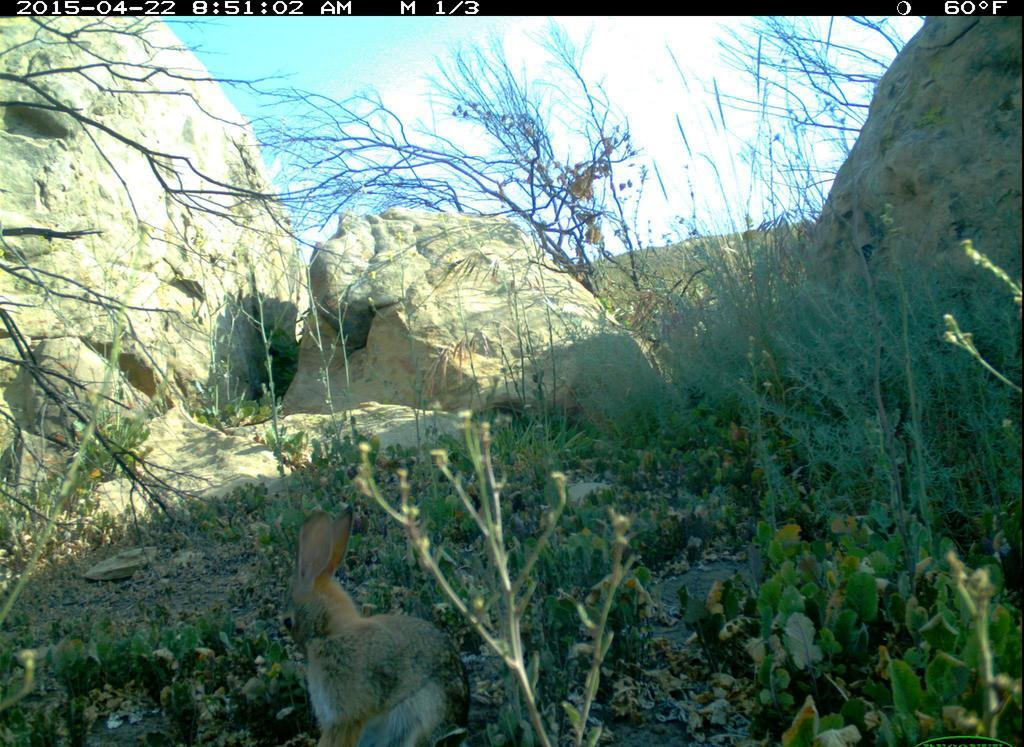rabbit: (278, 502, 477, 747)
